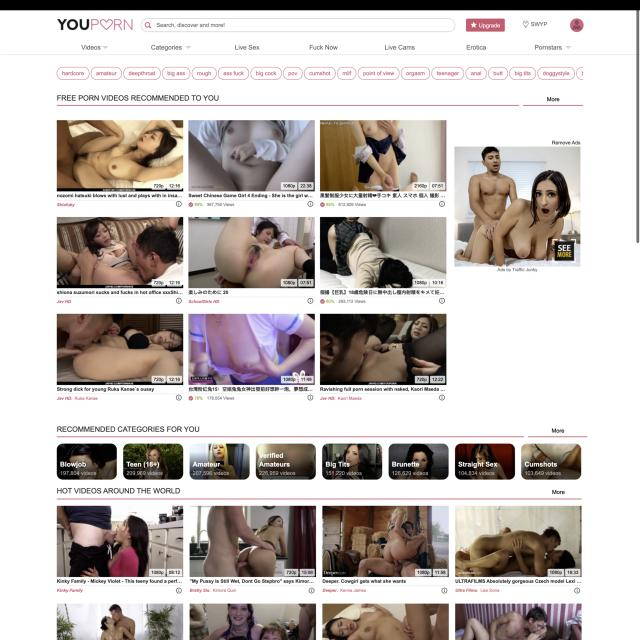content: (56, 118, 448, 408)
input: (141, 17, 455, 34)
logo: (57, 16, 135, 34)
navigation: (55, 443, 585, 482), (77, 41, 576, 54)
